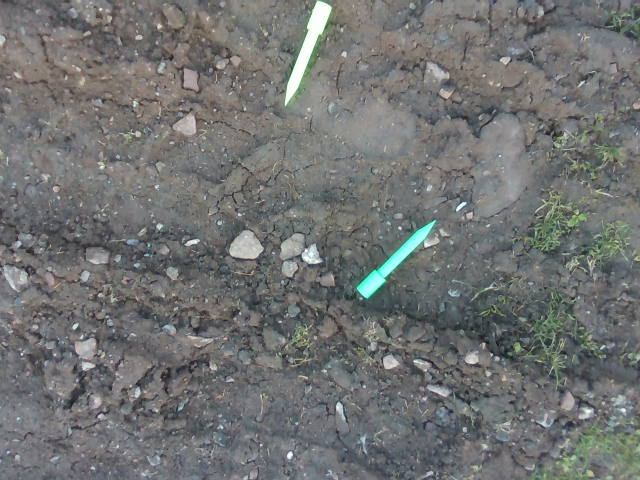Probe: (352, 215, 441, 305), (282, 1, 336, 109)
